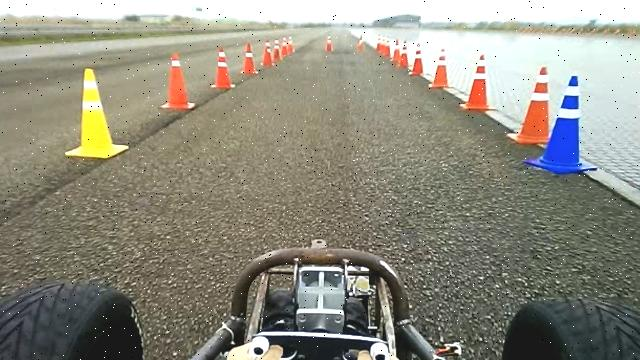blue cone: (527, 72, 602, 172)
red cone: (507, 66, 551, 144), (460, 53, 497, 110), (160, 52, 196, 110), (210, 46, 236, 90), (429, 48, 453, 88), (240, 42, 258, 74), (408, 42, 424, 75)
yellow cone: (65, 67, 129, 159)
